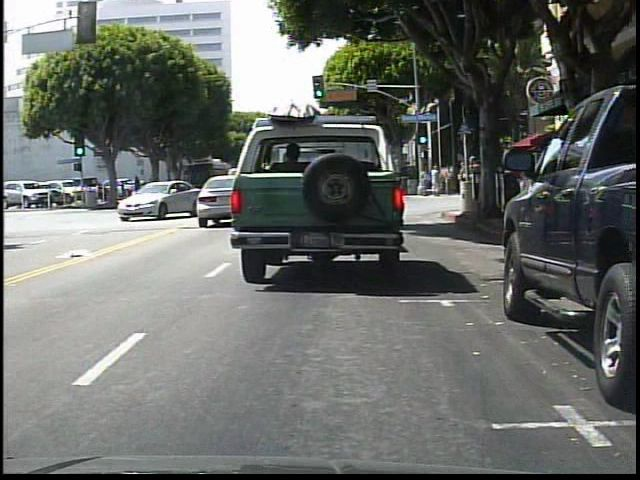person: (430, 162, 443, 195), (444, 163, 455, 195), (419, 167, 429, 195)
